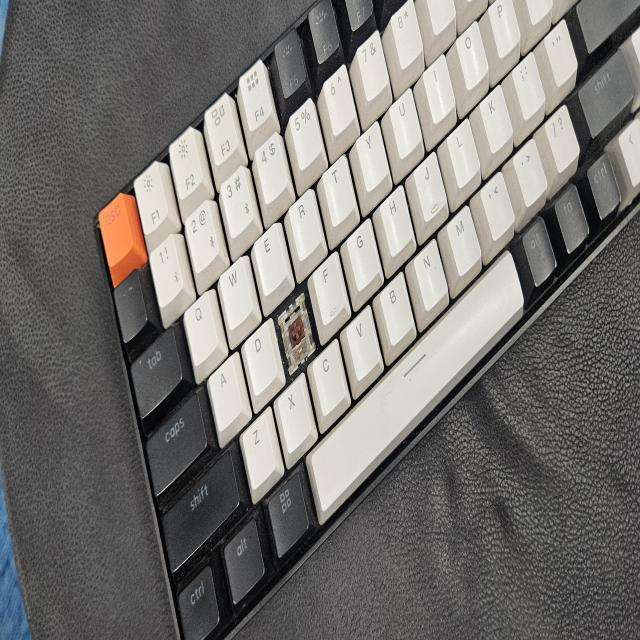C: (284, 305, 308, 354)
